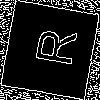R: (24, 24, 78, 68)
